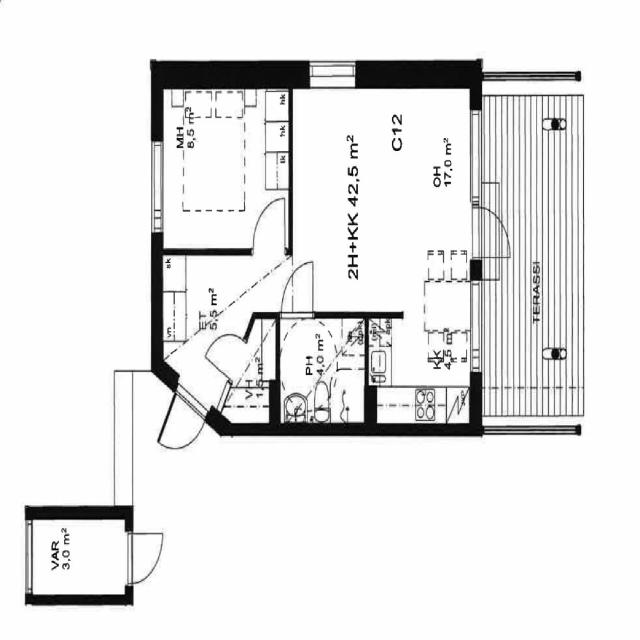door: (157, 376, 211, 470), (205, 318, 246, 382), (469, 206, 514, 258), (125, 533, 165, 584), (253, 196, 285, 255), (281, 261, 313, 318)
